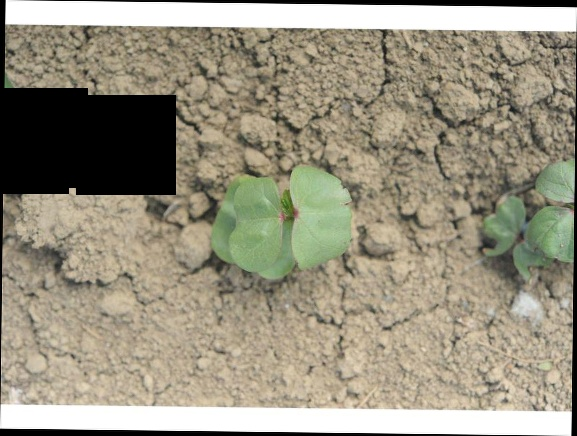cotton: (209, 163, 353, 282), (481, 159, 573, 279)
